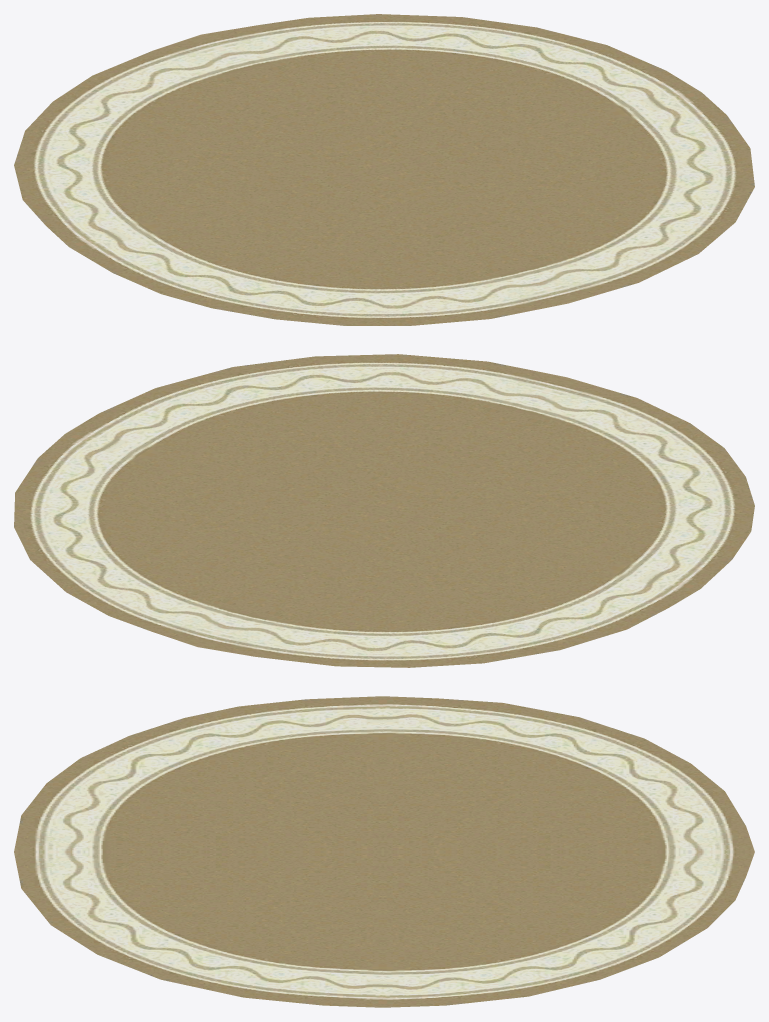
Rendered from frn_mdrn_rug_rnd_lg_s01.fbx.
3 renders of one model, top to bottom at view 1: azimuth 30°, elevation 25°; view 2: azimuth 150°, elevation 25°; view 3: azimuth 270°, elevation 25°, orthographic.
Visible parts, largest first — view 1: mesh_node; view 2: mesh_node; view 3: mesh_node.
Part boxes in pixels (bbox=[...]): mesh_node: bbox=[14, 14, 754, 325]; mesh_node: bbox=[14, 354, 754, 667]; mesh_node: bbox=[14, 696, 754, 1007].
Bounding box in the file's own units: 9.06 × 0 × 9.11.
